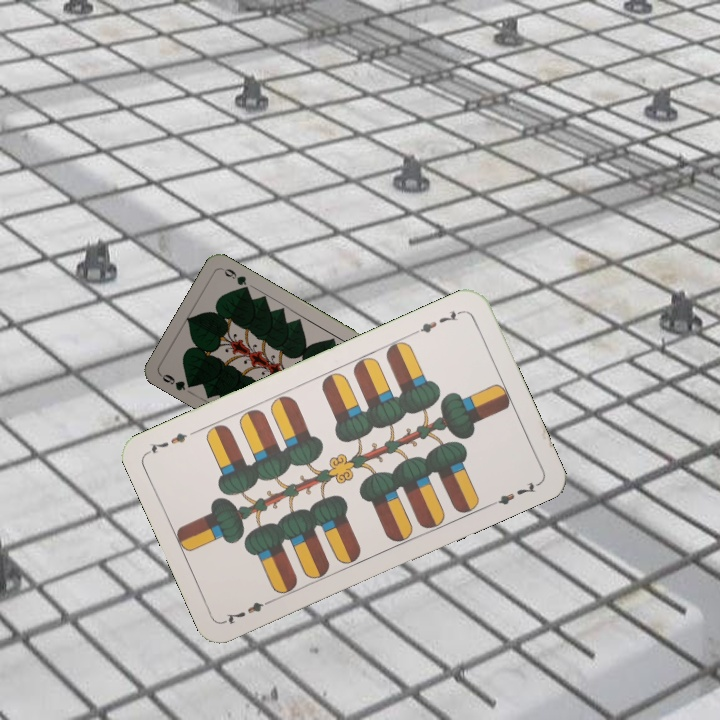E7: (409, 306, 465, 337), (220, 595, 276, 626)
G9: (157, 370, 197, 393)
